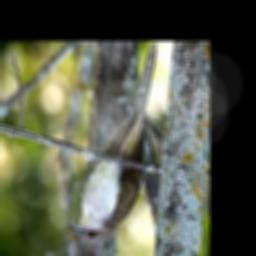Cuckoo: (66, 43, 156, 244)
